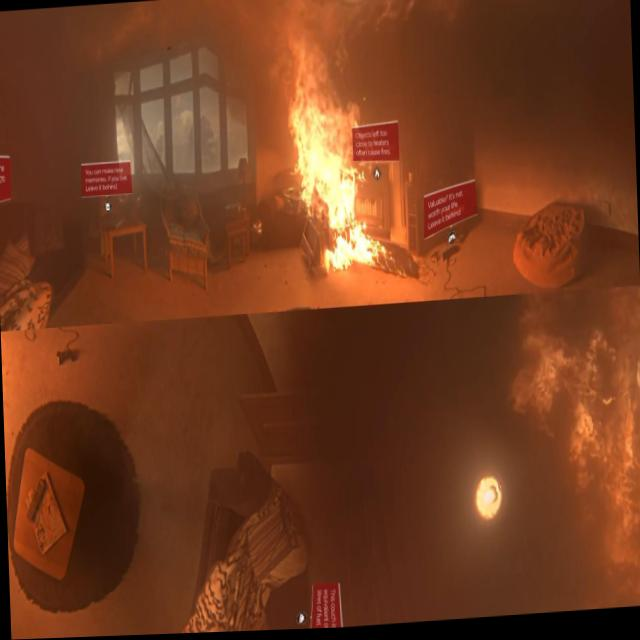fire: (282, 10, 406, 290)
